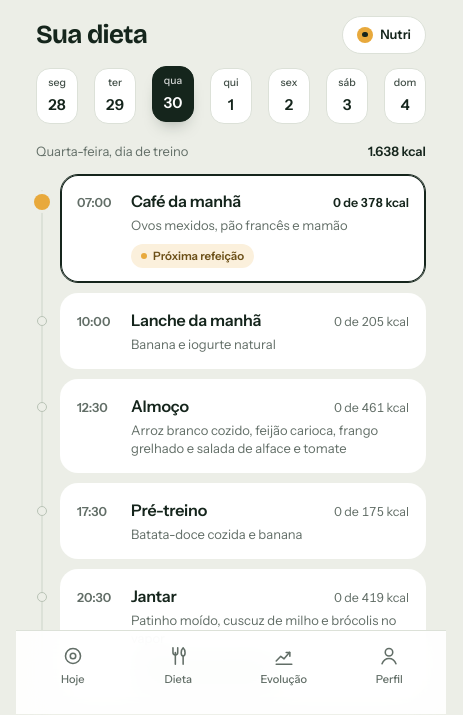
Test: Dieta (S12) › ontem é tocável e abre a refeição com a data (spec 09 RF36)
Click the tab "ter 29": (115, 96) [94,68,136,124]
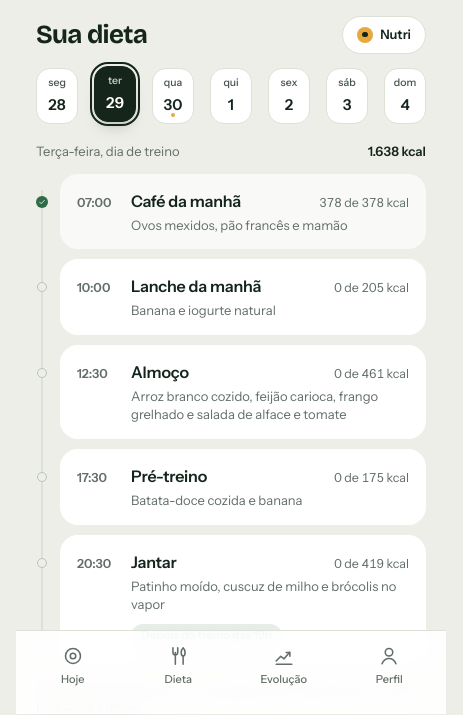
Expected: the text "378 de 378 kcal" is shown, [319,194,409,212]
